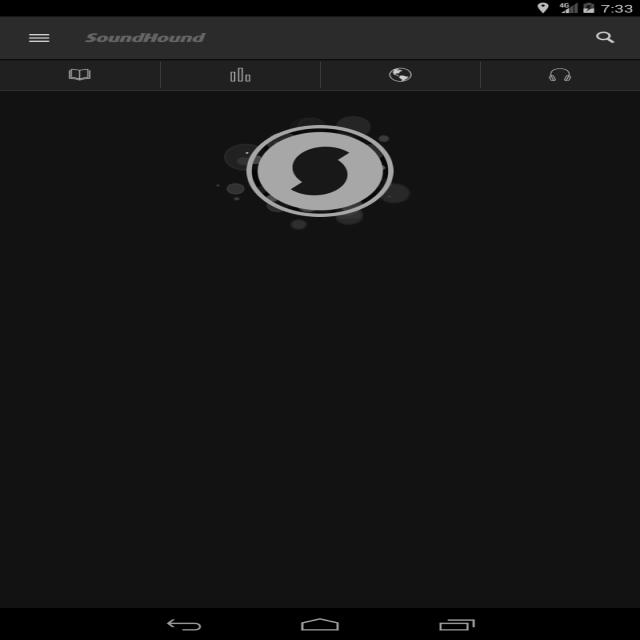ImageButton: (218, 61, 266, 87), (582, 24, 628, 48), (57, 65, 110, 85), (383, 66, 428, 87), (540, 66, 580, 85), (18, 27, 60, 45)
ProgressBar: (238, 126, 418, 224)
TextView: (81, 30, 220, 45)
